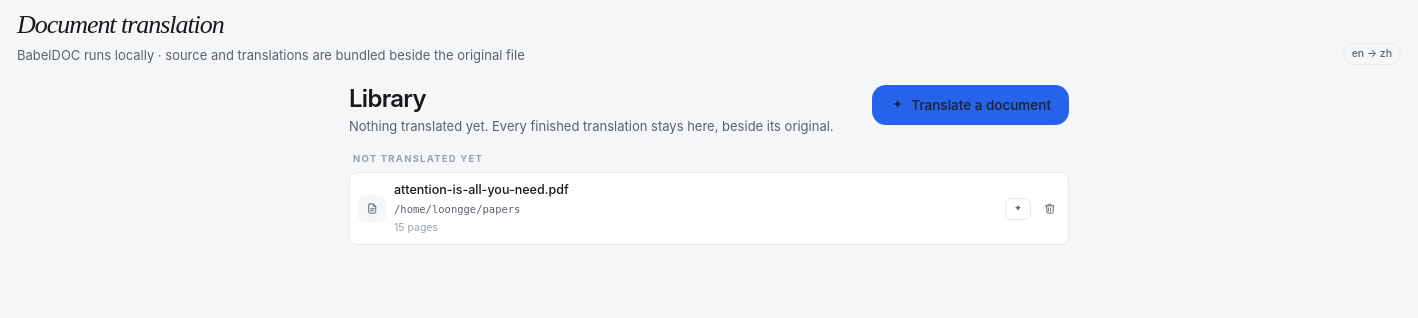
Test case: keeps the row and reports why when removal fails
The image size is (1418, 318).
Expected: the text titled "attention-is-all-you-need.pdf" is shown, [394,182,569,197]
Click the button named "Remove attention-is-all-you-need.pdf from the library". click: (1050, 209)
box: [1039,198,1060,219]
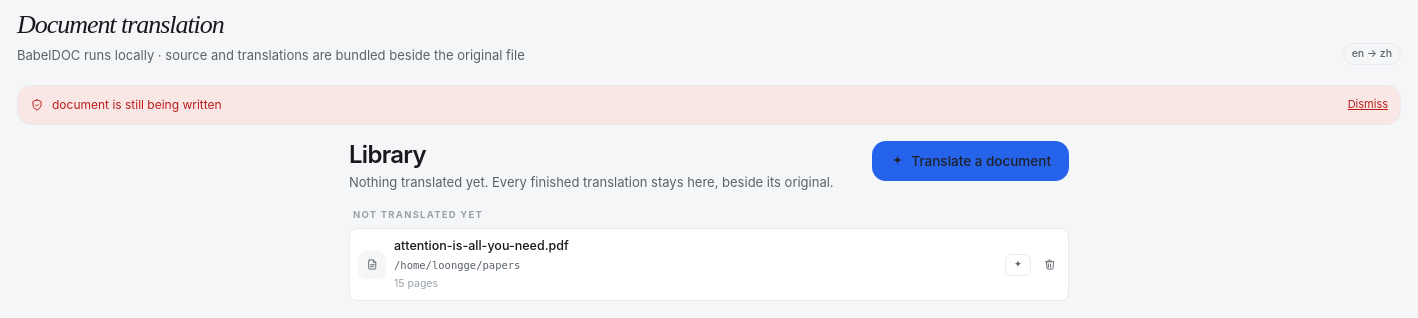
Expected: the text titled "attention-is-all-you-need.pdf" is shown, [394,238,569,253]
Expected: the message shows "document is still being written", [52,97,222,112]
